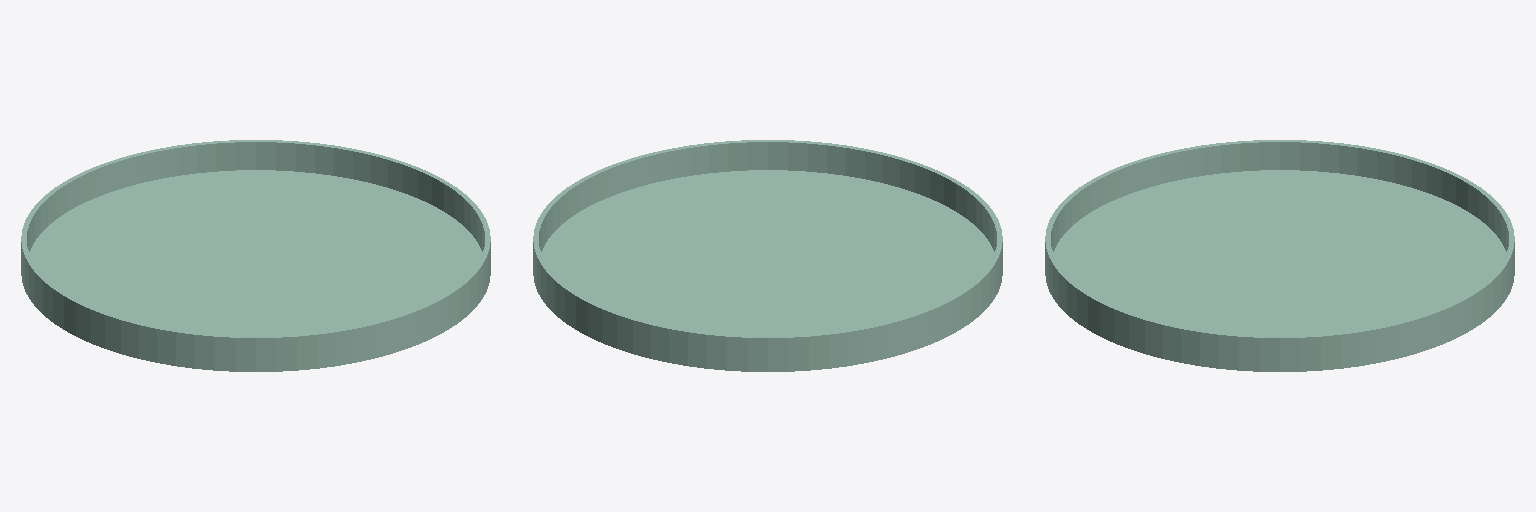
The model's file is probeta.obj.
The picture shows the model from 3 angles: view 1: azimuth 30°, elevation 25°; view 2: azimuth 150°, elevation 25°; view 3: azimuth 270°, elevation 25°; orthographic projection.
Parts seen in each view (by area): view 1: probeta; view 2: probeta; view 3: probeta.
Part boxes in pixels (x1,y1,x2,y2): probeta: (21, 140, 490, 371); probeta: (533, 140, 1002, 371); probeta: (1045, 140, 1514, 371).
Bounding box in the file's own units: 600 × 48 × 600.